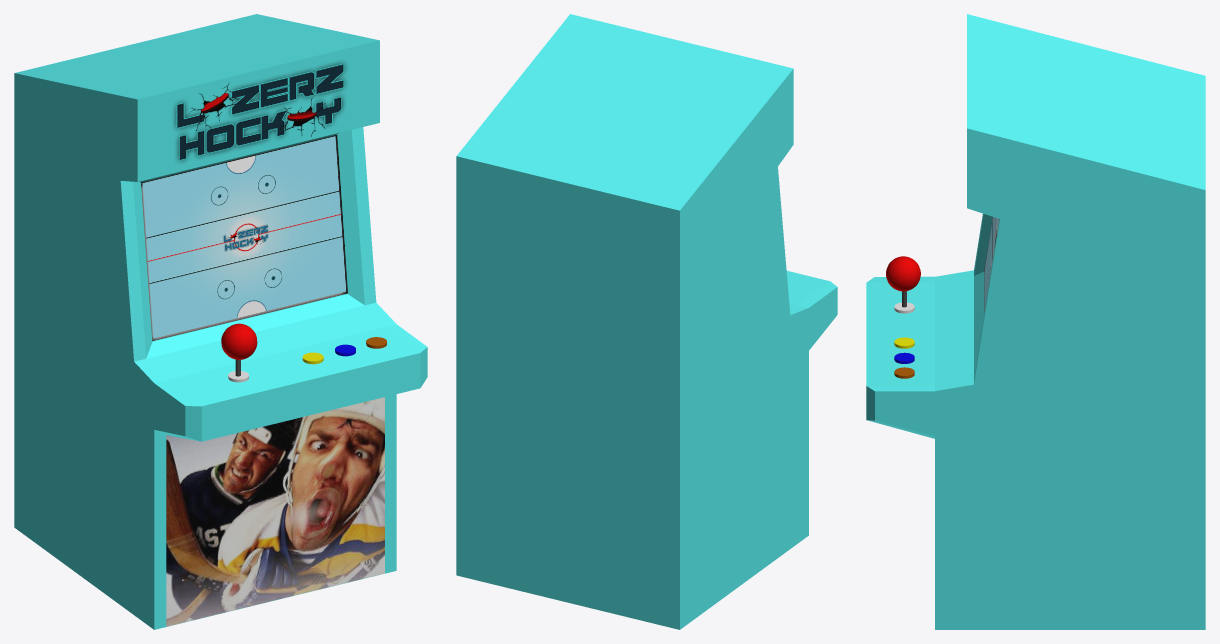
Rendered from MainArcadeBox_LH.fbx.
3 renders of one model, left to right at view 1: azimuth 30°, elevation 25°; view 2: azimuth 150°, elevation 25°; view 3: azimuth 270°, elevation 25°, orthographic. The views are drawn at different scales.
Parts seen in each view (by area): view 1: pCylinder6; view 2: pCylinder6; view 3: pCylinder6.
Part boxes in pixels (x1,y1,x2,y2): pCylinder6: (14, 14, 427, 629); pCylinder6: (456, 14, 837, 629); pCylinder6: (866, 14, 1205, 629).
Size of the model in its own units: 200 by 409 by 251.
